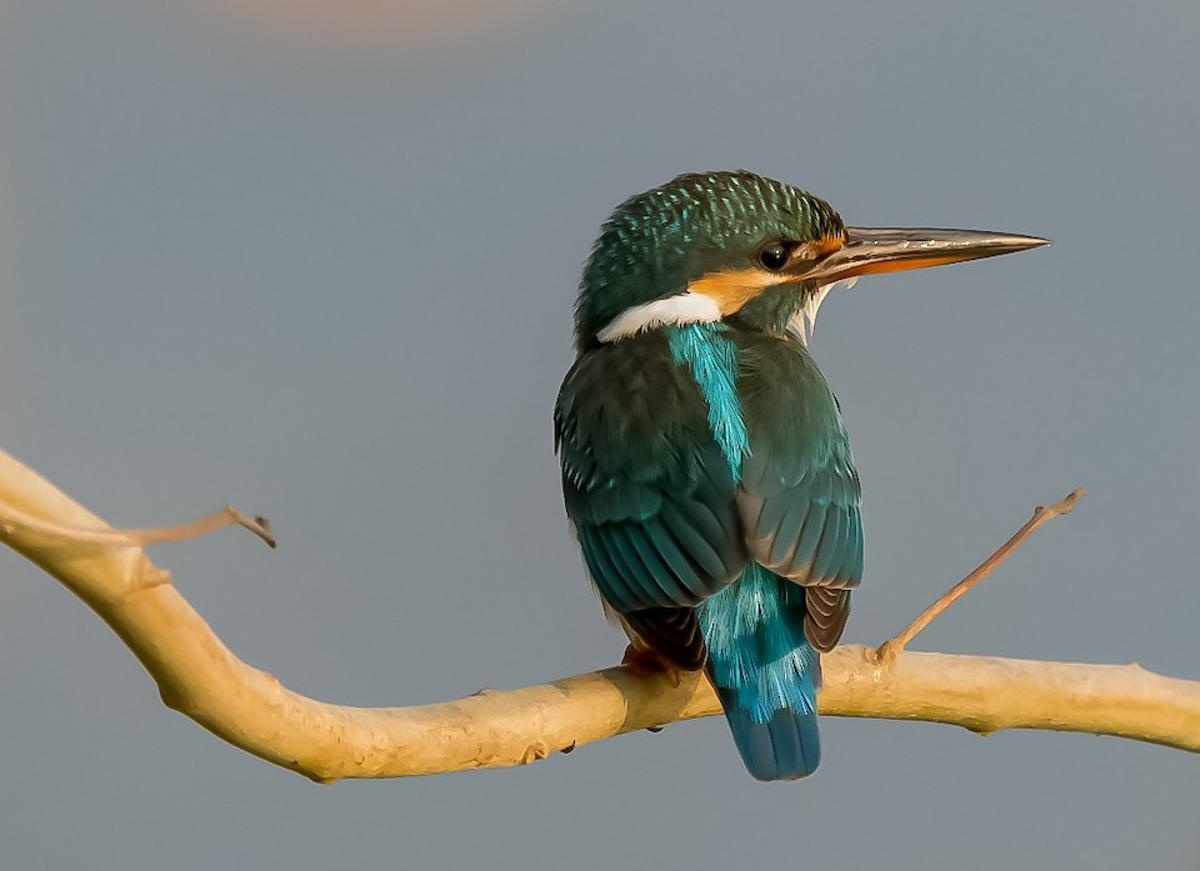kingfisher: (565, 169, 1059, 765)
